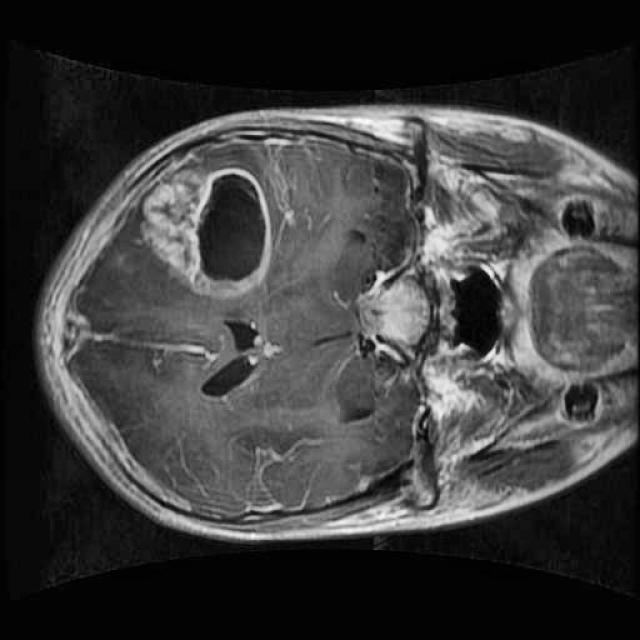Non-Tumor: (135, 159, 296, 306)
